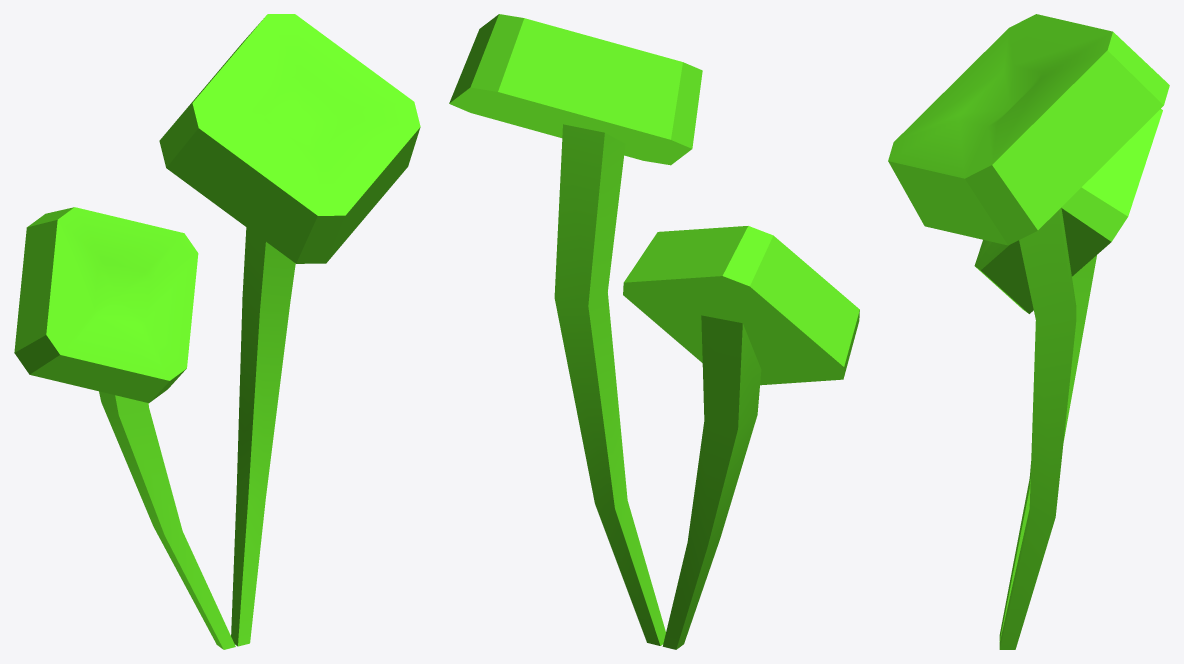
The model's file is SM_Flower_11.FBX.
The picture shows the model from 3 angles, left to right: view 1: azimuth 30°, elevation 25°; view 2: azimuth 150°, elevation 25°; view 3: azimuth 270°, elevation 25°; orthographic projection. The views are drawn at different scales.
Parts seen in each view (by area): view 1: 11; view 2: 11; view 3: 11.
Boxes of the visible parts, <box> form: 11: <box>14,14,420,649</box>; 11: <box>449,14,859,649</box>; 11: <box>888,14,1169,649</box>.
Size of the model in its own units: 1.33 by 1.97 by 0.7665.
